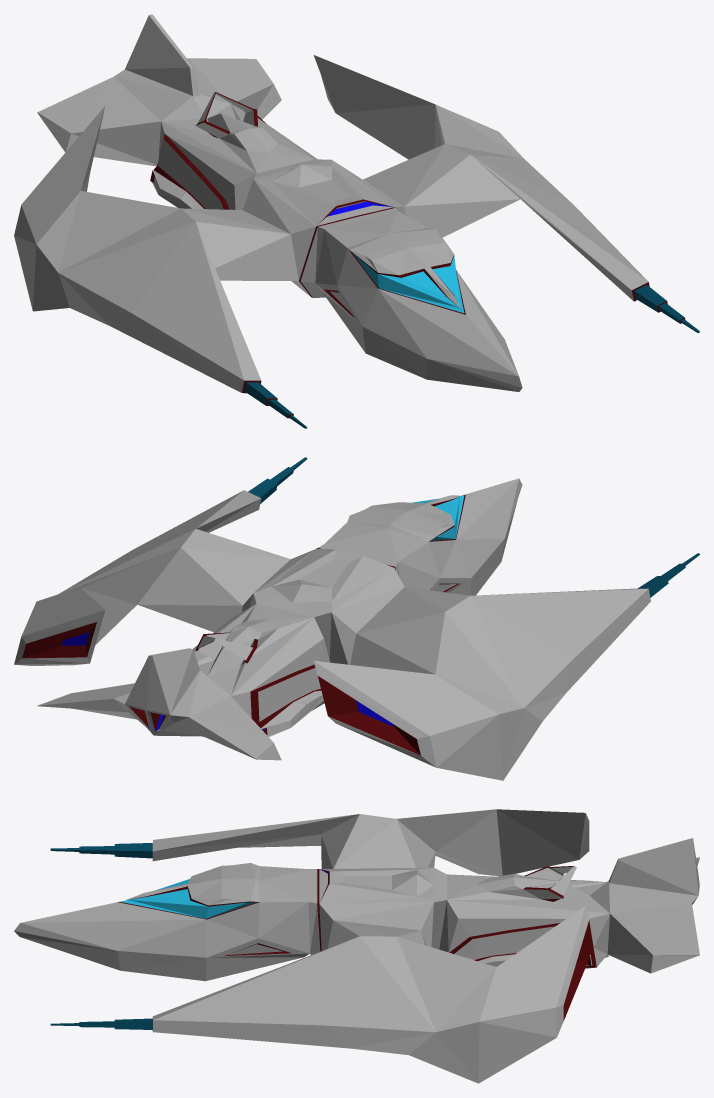
Rendered from Boss_03.fbx.
3 renders of one model, top to bottom at view 1: azimuth 30°, elevation 25°; view 2: azimuth 150°, elevation 25°; view 3: azimuth 270°, elevation 25°, orthographic. The views are drawn at different scales.
Visible parts, largest first — view 1: body; view 2: body; view 3: body.
Part boxes in pixels (x1,y1,x2,y2): body: (14, 14, 699, 428); body: (14, 457, 699, 780); body: (14, 809, 699, 1083).
Bounding box in the file's own units: 8.27 × 2.57 × 11.38.
